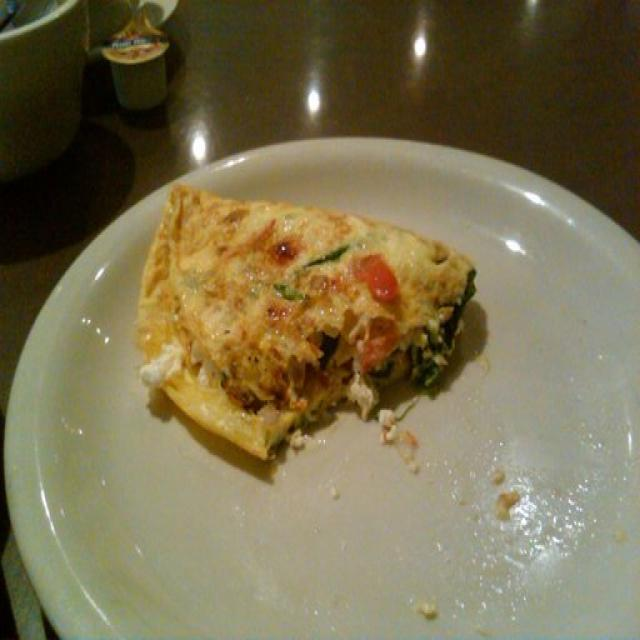telur_ayam_dadar: (139, 174, 482, 456)
